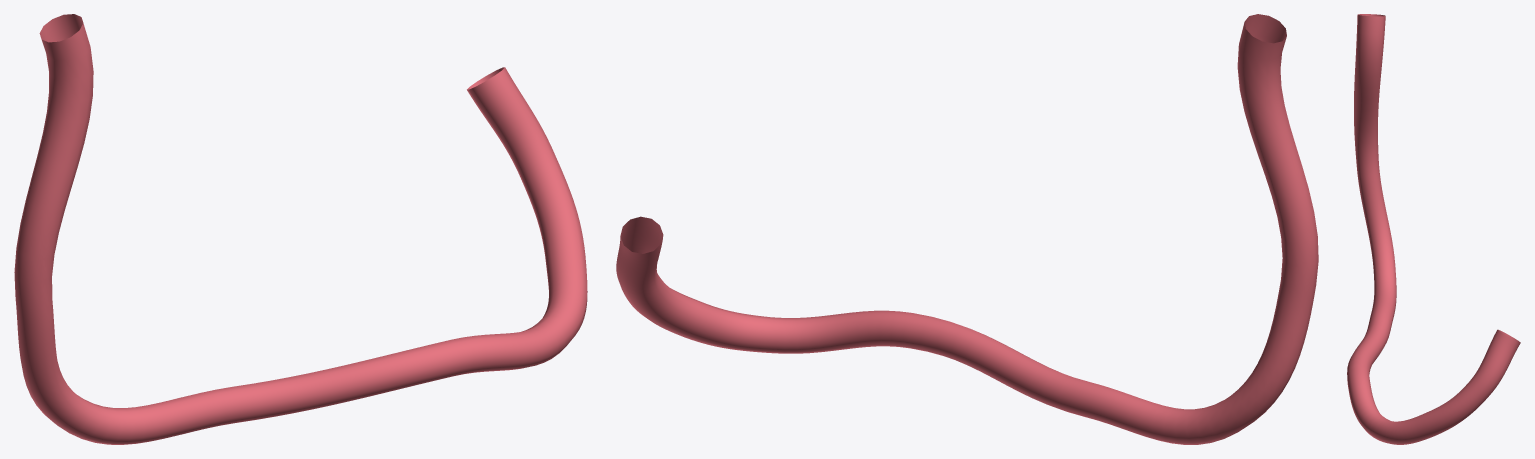
3 renders of one model, left to right at view 1: azimuth 30°, elevation 25°; view 2: azimuth 150°, elevation 25°; view 3: azimuth 270°, elevation 25°, orthographic. The views are drawn at different scales.
Parts seen in each view (by area): view 1: ZA_b50f301bca345c70; view 2: ZA_b50f301bca345c70; view 3: ZA_b50f301bca345c70.
Part boxes in pixels (left/top/right/bottom): ZA_b50f301bca345c70: left=14, top=14, right=587, bottom=444; ZA_b50f301bca345c70: left=616, top=14, right=1318, bottom=444; ZA_b50f301bca345c70: left=1347, top=14, right=1520, bottom=444.
Bounding box in the file's own units: 0.039 × 0.0272 × 0.0152.
